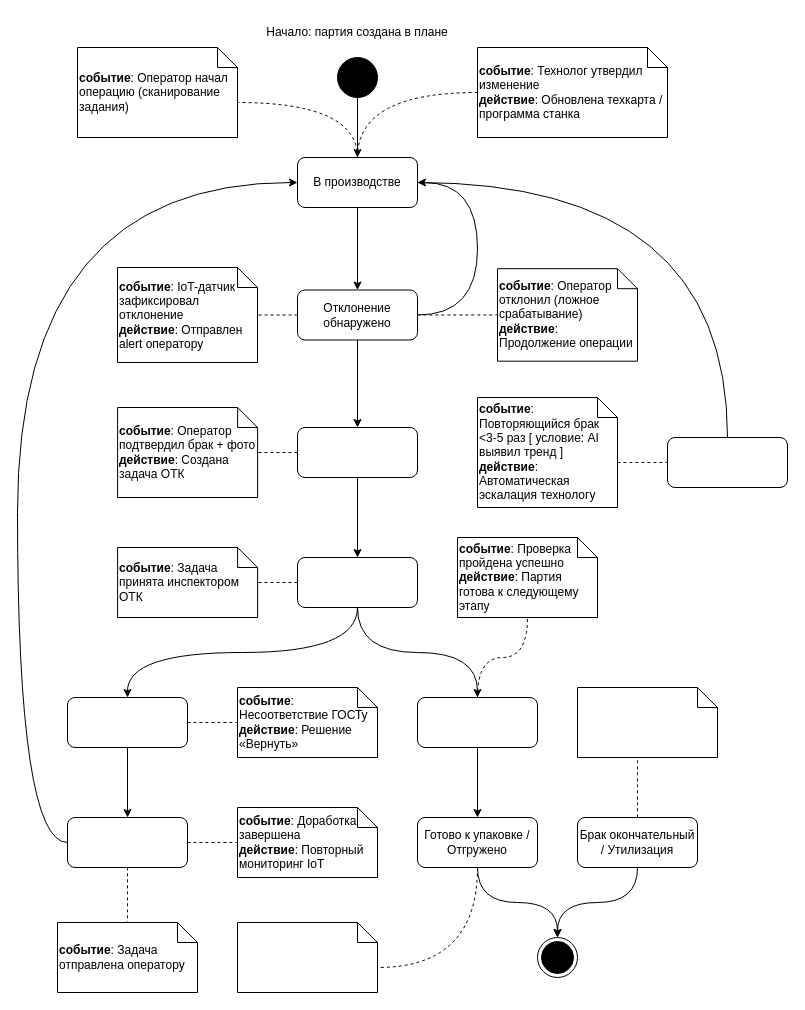
The diagram is 805 pixels wide and 1010 high, and some of its shapes have lost their labels. Here are the shapes that lost their labels. From the top down, the centre of each, then its label:
At pixel 357 452: "Подтвержден брак".
At pixel 727 462: "Эскалация системной проблемы".
At pixel 357 582: "На проверке ОТК".
At pixel 127 722: "Требуется доработка".
At pixel 477 722: "Соответствует ГОСТу".
At pixel 647 722: "событие : Технолог / ОТК решил списать".
At pixel 127 842: "На доработке".
At pixel 307 957: "событие : Все этапы завершены".
